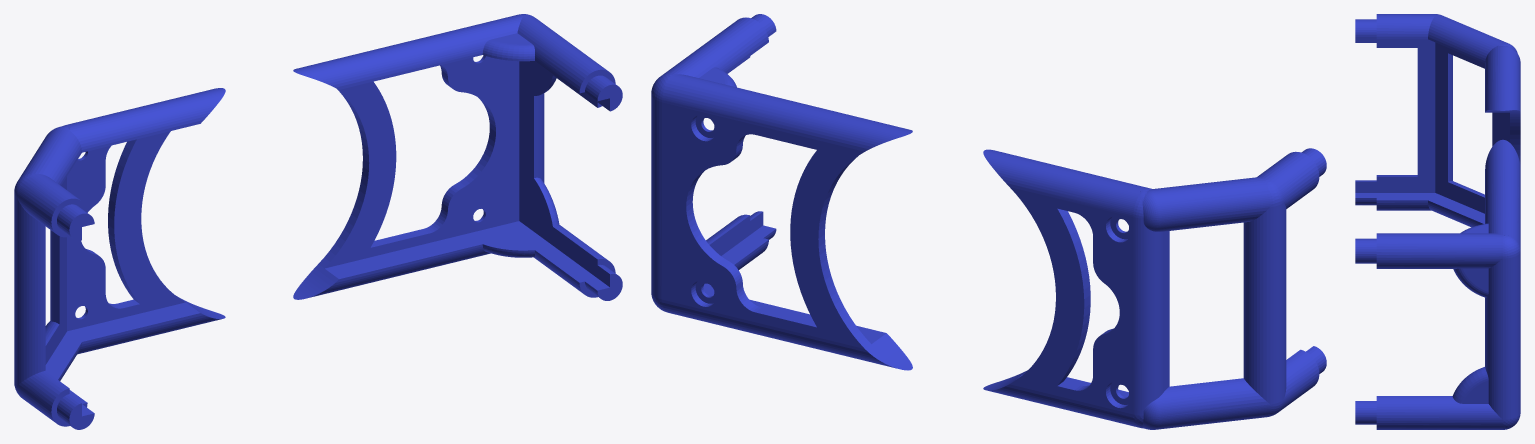
Rendered from top_protector.dae.
3 renders of one model, left to right at view 1: azimuth 30°, elevation 25°; view 2: azimuth 150°, elevation 25°; view 3: azimuth 270°, elevation 25°, orthographic. The views are drawn at different scales.
Visible parts, largest first — view 1: Top_Protector; view 2: Top_Protector; view 3: Top_Protector.
Boxes of the visible parts, <box> form: Top_Protector: <box>14,14,622,429</box>; Top_Protector: <box>651,14,1326,429</box>; Top_Protector: <box>1355,14,1520,429</box>.
Bounding box in the file's own units: 0.156 × 0.0465 × 0.06.
